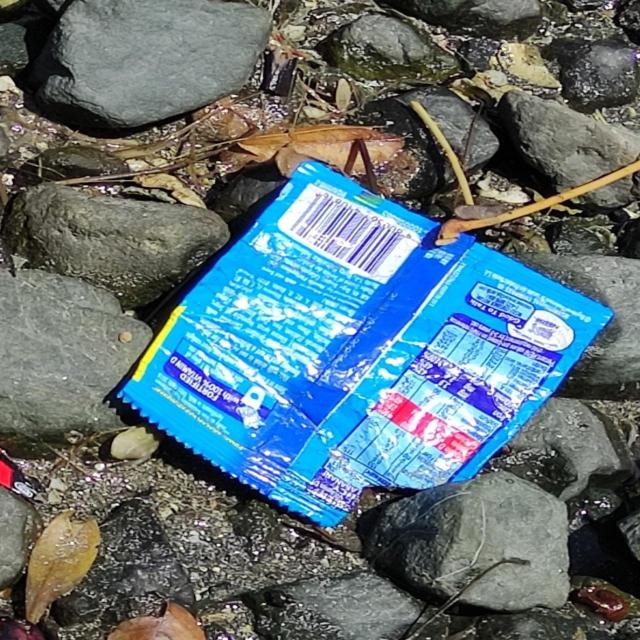plastic_waste: (109, 162, 627, 525)
